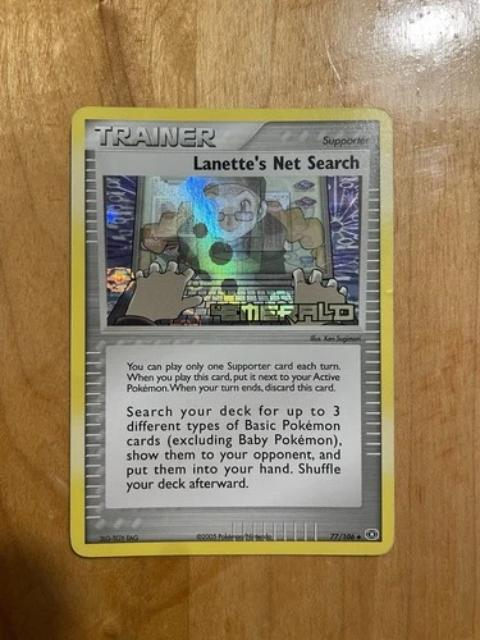Card: (63, 99, 400, 564)
Name: (188, 149, 364, 176)
